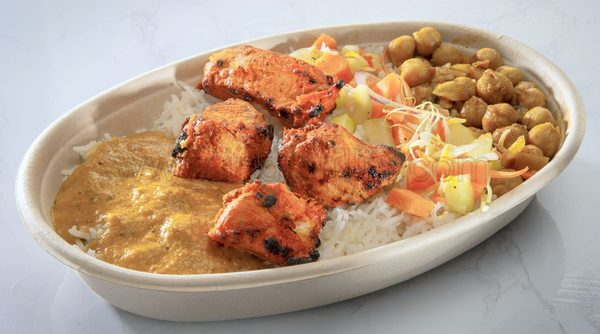sushi: (14, 17, 586, 324)
